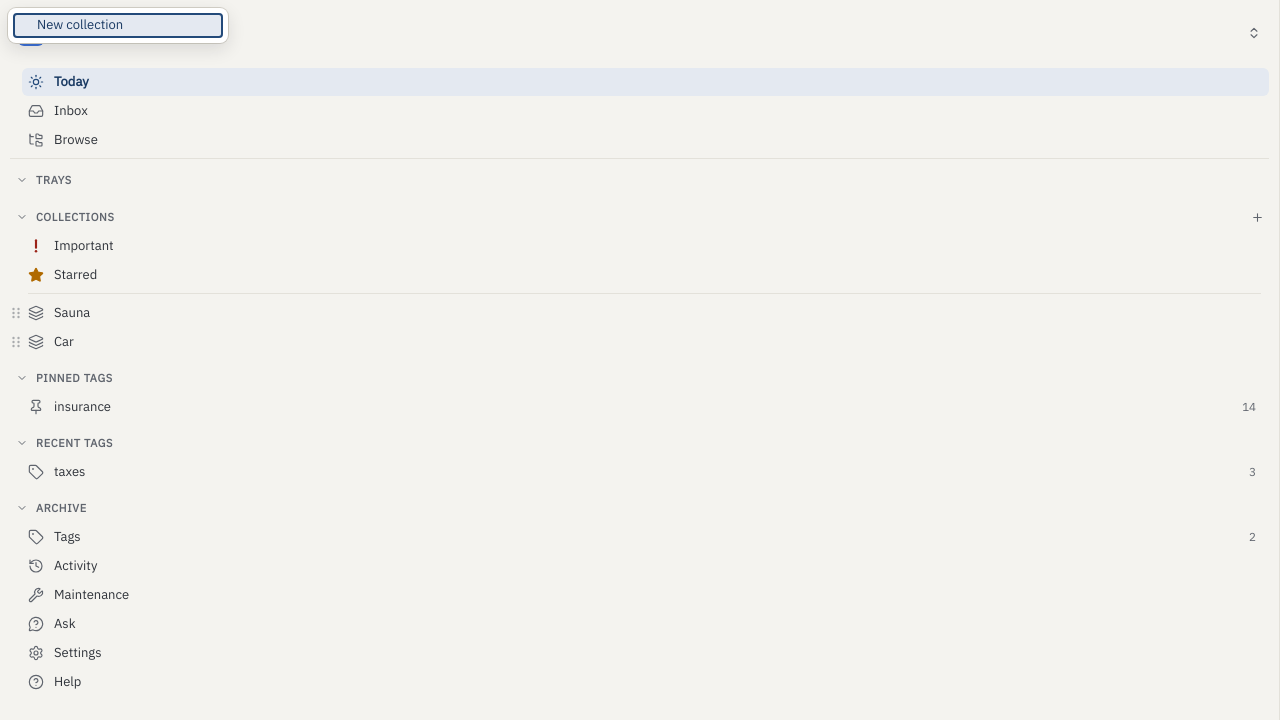
Test case: Sidebar right-click menus › the Collections caption offers New collection
This screenshot has width=1280, height=720.
Expected: the link "Sauna" is shown, [11, 304, 90, 321]
Click the menu item "New collection": (118, 25) [13, 13, 223, 38]
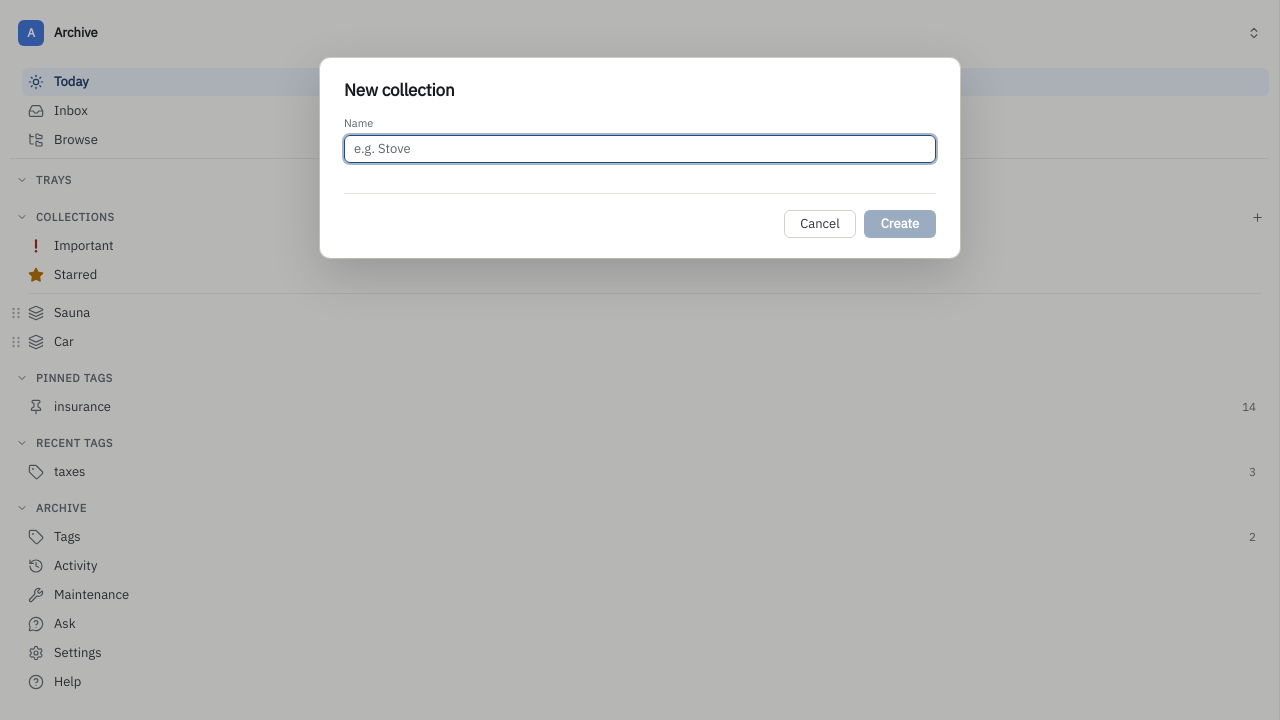
Expected: the dialog "New collection" is shown, [320, 58, 960, 258]
